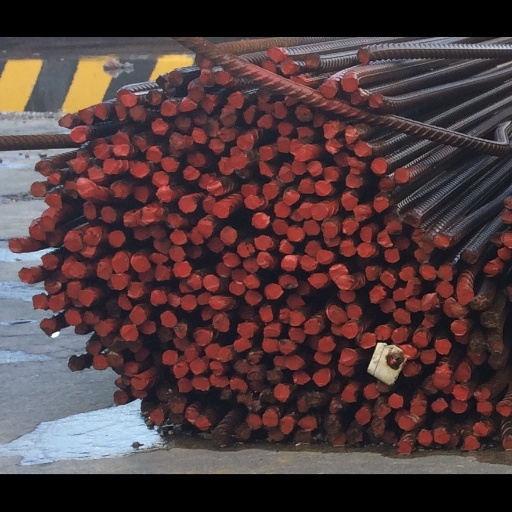dipstick: (76, 178, 96, 197), (112, 251, 129, 273), (64, 232, 82, 251), (131, 254, 150, 272), (326, 304, 345, 322), (296, 125, 315, 143), (212, 312, 229, 332), (312, 368, 330, 386), (109, 181, 128, 198), (219, 225, 236, 244), (294, 104, 313, 121), (480, 310, 499, 327), (84, 226, 100, 246), (236, 322, 257, 337), (47, 294, 65, 311), (129, 306, 146, 324), (178, 196, 196, 213), (193, 327, 211, 344), (174, 114, 191, 132), (280, 254, 298, 271), (341, 348, 359, 365), (200, 95, 217, 113), (322, 120, 339, 138), (295, 392, 312, 410), (369, 285, 386, 303), (323, 415, 340, 433), (229, 376, 248, 392), (329, 263, 348, 279), (77, 289, 94, 306), (120, 324, 137, 341), (196, 220, 213, 237), (207, 235, 224, 252), (203, 274, 220, 291), (189, 357, 206, 374), (288, 326, 305, 343), (256, 251, 273, 268), (278, 164, 295, 181), (220, 108, 237, 125), (214, 71, 231, 88), (319, 80, 336, 97), (29, 224, 47, 240), (109, 229, 125, 247), (87, 166, 105, 182), (130, 161, 148, 177), (92, 143, 110, 159), (222, 251, 240, 267), (236, 242, 254, 258), (218, 156, 234, 174), (251, 212, 269, 228), (261, 183, 279, 199), (286, 225, 304, 241), (285, 355, 304, 370), (278, 274, 297, 289), (254, 235, 273, 250), (285, 293, 304, 308), (307, 273, 326, 288), (208, 373, 228, 387), (345, 173, 365, 187), (92, 103, 108, 120), (41, 253, 58, 269), (70, 263, 87, 279), (64, 309, 81, 325), (66, 281, 82, 298), (172, 361, 189, 377), (117, 293, 134, 309), (96, 262, 112, 279), (110, 273, 127, 289), (150, 289, 167, 305), (160, 311, 177, 327), (133, 186, 149, 203), (142, 206, 159, 222), (153, 238, 170, 254), (278, 338, 295, 354), (287, 310, 304, 326), (212, 202, 229, 218), (206, 180, 223, 196), (311, 204, 328, 220), (370, 158, 387, 174), (436, 281, 453, 297), (398, 414, 415, 430), (476, 398, 492, 415), (488, 351, 504, 368), (487, 333, 503, 350), (347, 157, 364, 173), (94, 321, 112, 336), (172, 261, 190, 276), (244, 289, 262, 304), (274, 383, 289, 401), (264, 283, 282, 298), (242, 257, 260, 272), (187, 151, 205, 166), (297, 178, 315, 193), (131, 226, 150, 240), (232, 337, 251, 351), (402, 362, 421, 376), (30, 181, 46, 197), (18, 267, 34, 283), (168, 396, 184, 412), (127, 281, 143, 297), (100, 206, 116, 222), (173, 335, 189, 351), (103, 159, 119, 175), (152, 171, 168, 187), (246, 413, 262, 429), (216, 261, 232, 277), (262, 410, 278, 426), (266, 368, 282, 384), (151, 118, 167, 134), (227, 91, 243, 107), (271, 218, 287, 234), (318, 336, 334, 352), (341, 323, 357, 339), (300, 254, 316, 270), (314, 179, 330, 195), (304, 52, 320, 68), (435, 338, 451, 354), (412, 332, 428, 348), (416, 428, 432, 444), (496, 400, 512, 416), (423, 293, 439, 309), (69, 127, 86, 142), (106, 352, 123, 367), (156, 186, 173, 201), (70, 157, 87, 172), (161, 157, 178, 172), (188, 227, 203, 244), (273, 202, 290, 217), (316, 249, 333, 264), (340, 239, 355, 256), (345, 125, 360, 142), (363, 383, 380, 398), (380, 271, 395, 288), (357, 242, 374, 257), (377, 229, 392, 246), (297, 202, 312, 219), (417, 237, 434, 252), (456, 289, 473, 304), (449, 320, 466, 335), (392, 308, 409, 323), (391, 327, 408, 342), (44, 193, 62, 207), (191, 376, 209, 390), (218, 127, 236, 141), (462, 435, 480, 449), (345, 427, 363, 441), (44, 278, 60, 293), (85, 340, 101, 355), (92, 354, 108, 369), (131, 374, 147, 389), (161, 350, 177, 365), (154, 265, 170, 280), (180, 294, 196, 309), (170, 229, 186, 244), (145, 146, 161, 161), (177, 278, 193, 293), (186, 272, 201, 288), (204, 343, 220, 358), (188, 86, 204, 101), (208, 138, 224, 153), (198, 173, 213, 189), (230, 153, 246, 168), (304, 318, 319, 334), (345, 304, 361, 319), (303, 220, 319, 235), (272, 101, 287, 117), (325, 138, 341, 153), (360, 332, 375, 348), (267, 46, 283, 61), (393, 234, 409, 249), (434, 233, 449, 249), (433, 428, 449, 443), (452, 384, 467, 400), (472, 294, 488, 309), (168, 246, 185, 260), (182, 165, 199, 179), (259, 304, 273, 321), (262, 337, 279, 351), (279, 416, 293, 433), (292, 370, 309, 384), (236, 135, 253, 149), (335, 275, 352, 289), (341, 220, 358, 234), (354, 139, 368, 156), (399, 266, 416, 280), (111, 130, 129, 143), (314, 350, 332, 363), (298, 416, 316, 429), (213, 428, 231, 441), (313, 391, 326, 409), (399, 344, 417, 357), (39, 216, 54, 231), (149, 409, 164, 424), (177, 377, 192, 392), (164, 212, 179, 227), (146, 89, 161, 104), (160, 101, 175, 116), (307, 160, 322, 175), (353, 206, 368, 221), (373, 196, 388, 211), (420, 348, 435, 363), (388, 393, 403, 408), (431, 397, 446, 412), (433, 373, 448, 388), (468, 334, 483, 349), (113, 104, 127, 120), (35, 161, 51, 175), (123, 211, 137, 227), (130, 106, 146, 120), (173, 322, 187, 338), (193, 416, 209, 430), (208, 294, 224, 308), (228, 280, 244, 294), (233, 358, 249, 372), (170, 132, 186, 146), (192, 127, 206, 143), (305, 240, 321, 254), (283, 190, 299, 204), (291, 160, 307, 174), (276, 136, 290, 152), (365, 264, 379, 280), (359, 226, 373, 242), (260, 60, 276, 74), (341, 77, 357, 91), (420, 265, 436, 279), (451, 398, 467, 412), (406, 278, 420, 294), (244, 195, 261, 208), (338, 289, 355, 302), (243, 106, 256, 123), (294, 430, 311, 443), (59, 113, 74, 127), (78, 109, 92, 124), (8, 238, 22, 253), (33, 293, 47, 308), (40, 318, 54, 333), (113, 390, 127, 405), (141, 320, 156, 334), (196, 290, 211, 304), (209, 361, 224, 375), (200, 73, 215, 87), (279, 239, 294, 253), (321, 222, 336, 236), (333, 151, 347, 166), (341, 196, 356, 210), (375, 325, 390, 339), (438, 265, 452, 280), (460, 249, 474, 264), (473, 422, 488, 436), (482, 262, 497, 276), (498, 246, 512, 261), (259, 161, 273, 176), (156, 327, 171, 341), (113, 142, 129, 155), (263, 323, 279, 336), (240, 183, 256, 196), (276, 121, 292, 134), (186, 246, 203, 258), (68, 355, 80, 372), (124, 361, 138, 375), (167, 292, 181, 306), (132, 136, 146, 150), (232, 268, 246, 282), (168, 70, 182, 84), (329, 398, 343, 412), (380, 298, 394, 312), (280, 60, 294, 74), (369, 93, 383, 107), (394, 168, 408, 182), (384, 248, 398, 262), (406, 297, 420, 311), (410, 402, 424, 416), (82, 203, 95, 218), (217, 347, 232, 360), (257, 114, 272, 127), (392, 287, 407, 300), (474, 386, 489, 399), (246, 399, 261, 412), (452, 303, 465, 318), (120, 94, 136, 106), (114, 376, 130, 388), (244, 275, 260, 287), (378, 179, 394, 191), (357, 47, 369, 63), (330, 434, 346, 446), (403, 213, 419, 225), (337, 365, 354, 376), (355, 410, 369, 423), (259, 146, 272, 160), (323, 167, 337, 180), (376, 402, 389, 416), (114, 88, 129, 100), (341, 390, 356, 402), (386, 221, 401, 233), (454, 368, 469, 380), (500, 232, 512, 247), (422, 313, 434, 328), (257, 87, 269, 102), (84, 311, 99, 323), (249, 369, 265, 380), (234, 428, 250, 439), (330, 323, 343, 336), (469, 352, 483, 364), (258, 101, 272, 113), (278, 307, 289, 322), (236, 392, 251, 403), (322, 236, 338, 246), (267, 429, 283, 439), (62, 256, 70, 276), (48, 171, 60, 184), (184, 408, 197, 420), (350, 88, 361, 102), (81, 246, 95, 257), (250, 380, 262, 392), (248, 351, 261, 362), (372, 419, 383, 432), (127, 341, 141, 351), (200, 307, 211, 319), (398, 442, 411, 452), (444, 298, 451, 316), (261, 391, 273, 401), (220, 390, 232, 400), (135, 350, 147, 360), (384, 432, 395, 442), (76, 323, 87, 333)
